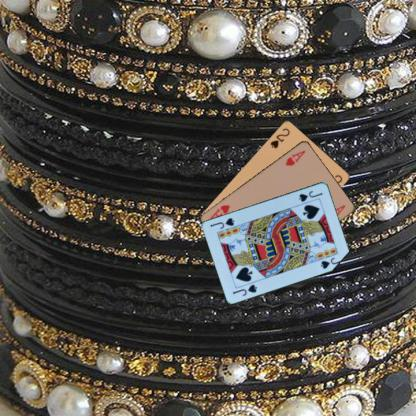2s: (268, 125, 291, 150)
Ah: (283, 147, 307, 168)
Js: (231, 281, 258, 297), (297, 188, 324, 203)
